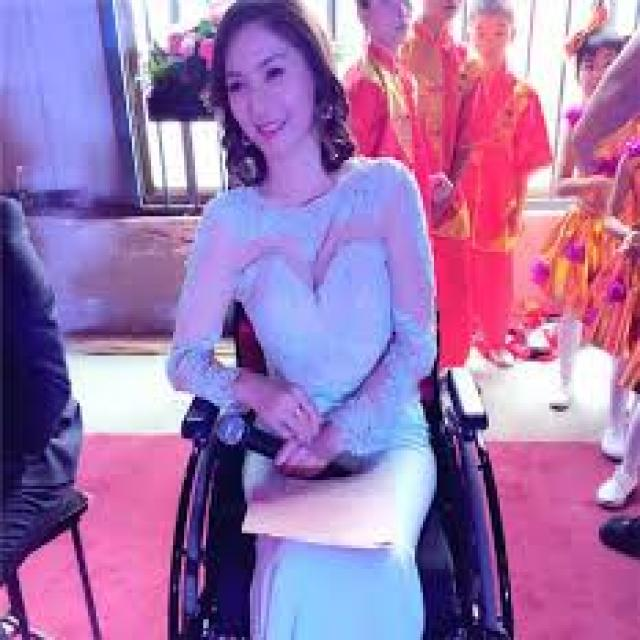wheelchairs: (162, 273, 522, 637)
